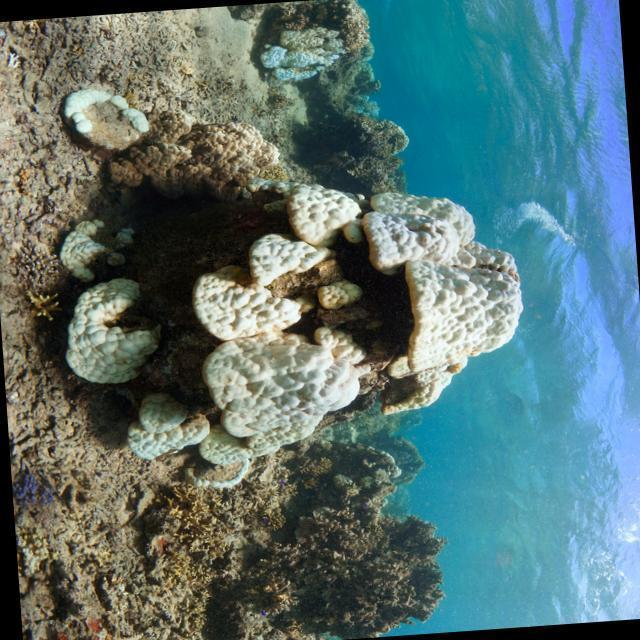Bleached Coral: (24, 170, 544, 474), (247, 42, 344, 86)
Dead Coral: (225, 459, 490, 640), (290, 108, 420, 186)
